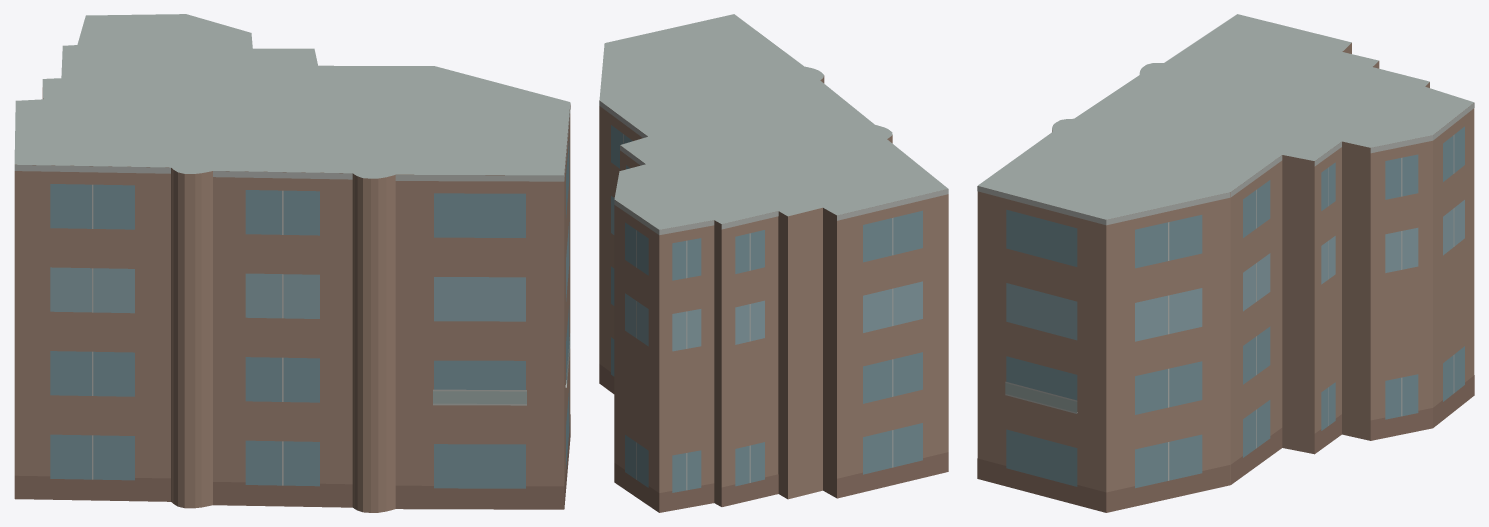
Rendered from survey-upis-32886900.glb.
3 views of the same model, side by side, from view 1: azimuth 30°, elevation 25°; view 2: azimuth 150°, elevation 25°; view 3: azimuth 270°, elevation 25° (orthographic). The views are drawn at different scales.
Parts seen in each view (by area): view 1: survey-upis-32886900.tmp; view 2: survey-upis-32886900.tmp; view 3: survey-upis-32886900.tmp.
Boxes of the visible parts, x1,y1,x2,y2 form: survey-upis-32886900.tmp: [14, 14, 570, 512]; survey-upis-32886900.tmp: [599, 14, 948, 512]; survey-upis-32886900.tmp: [977, 14, 1474, 512].
Size of the model in its own units: 19.59 by 13 by 19.99.
